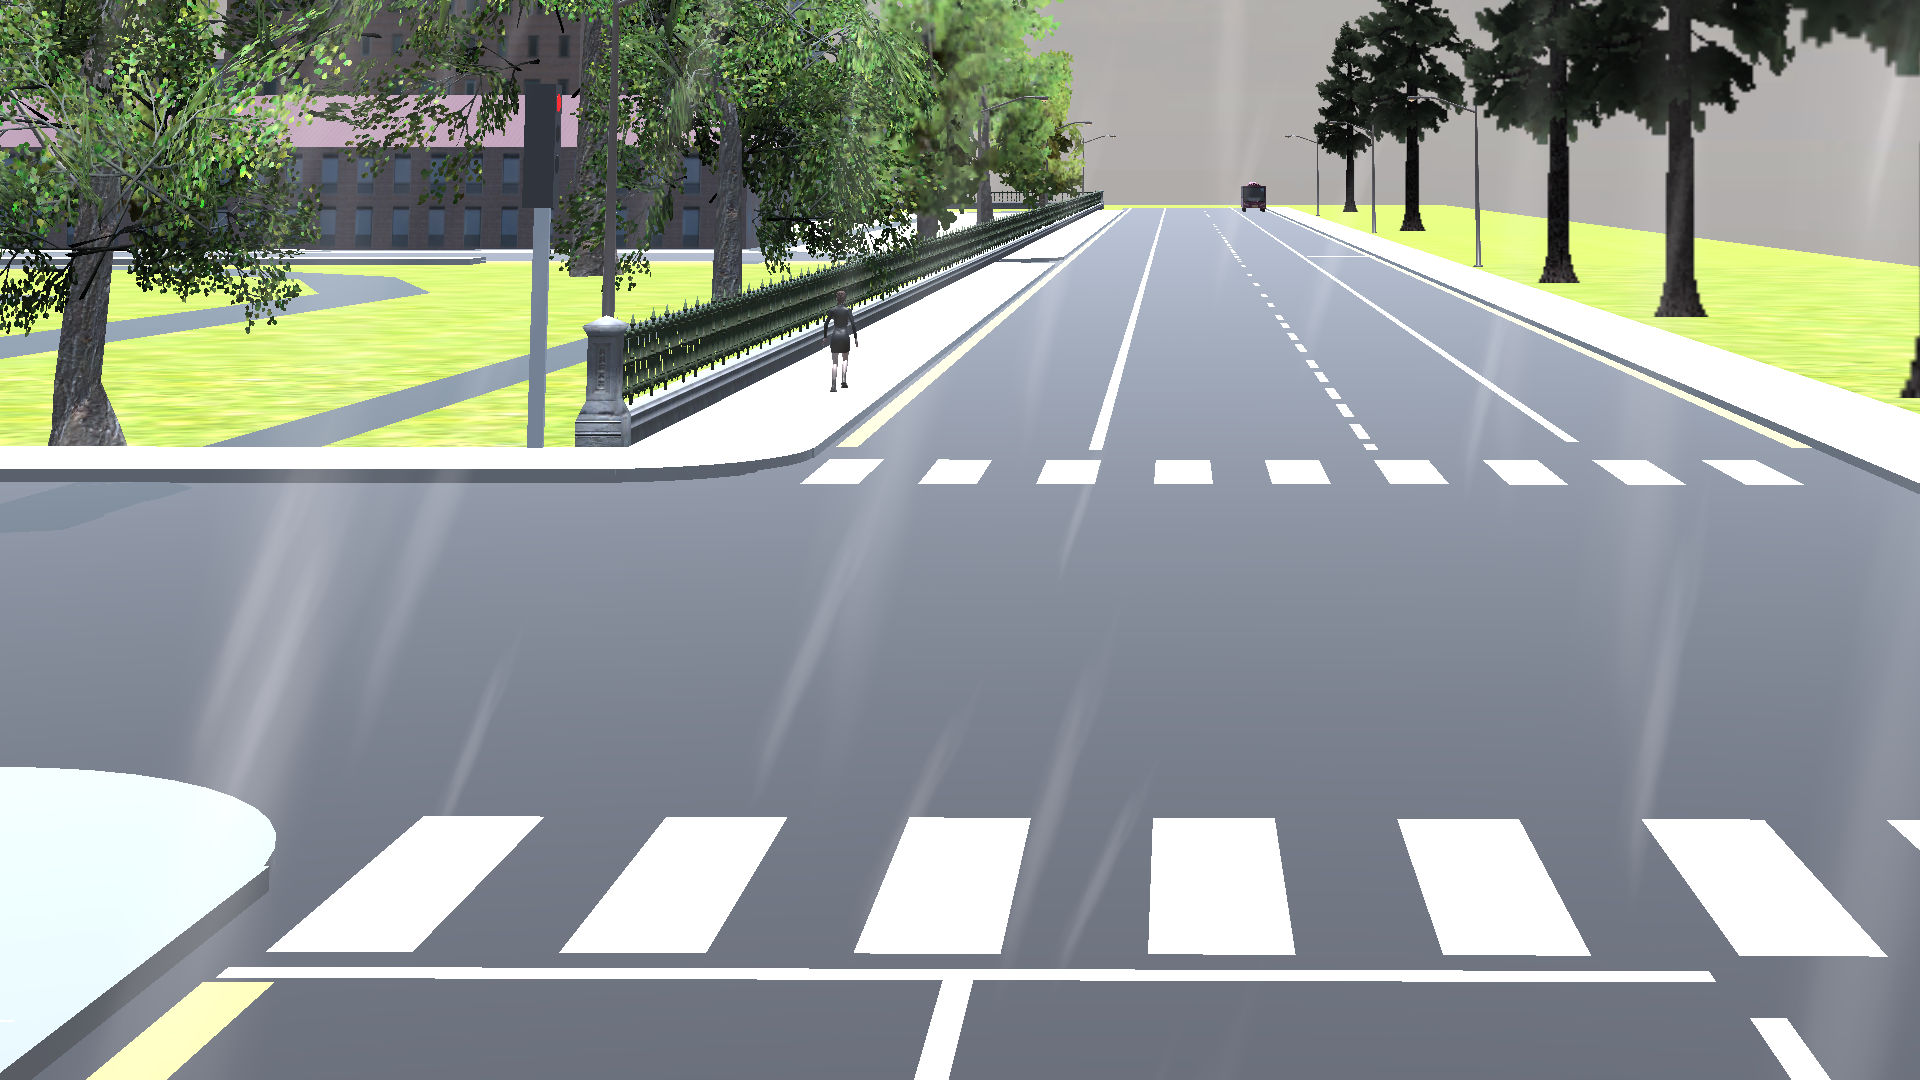pedestrian: (814, 286, 858, 398)
